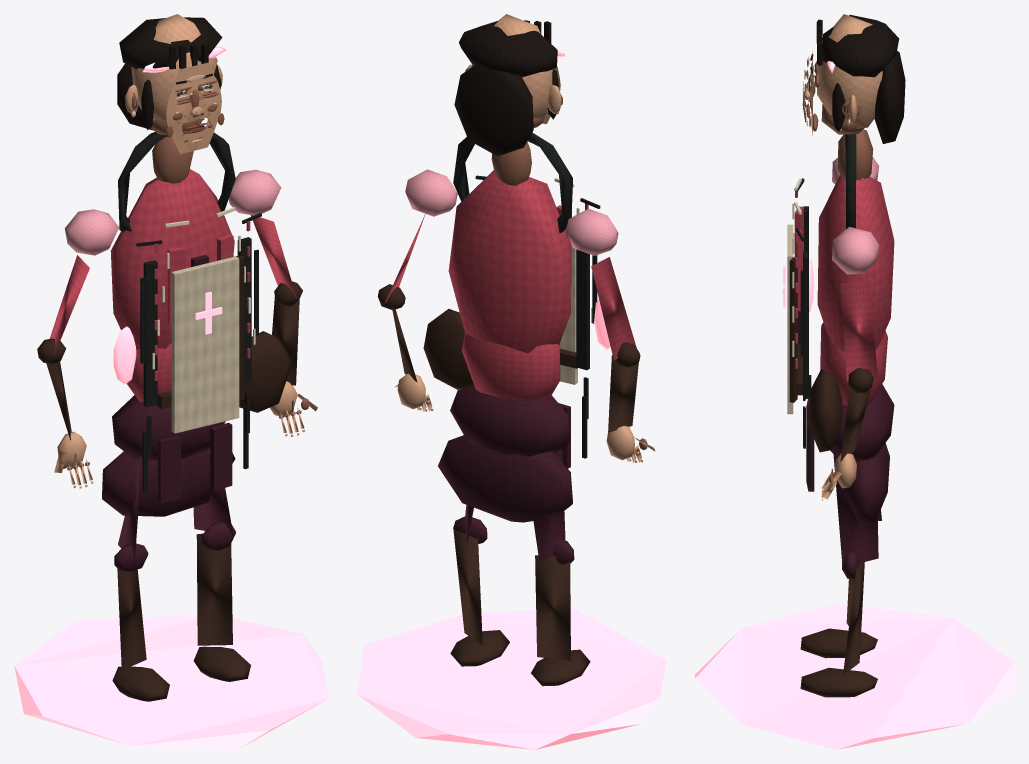
Rendered from crimson-mender-lod1.glb.
The picture shows the model from 3 angles, left to right: view 1: azimuth 30°, elevation 25°; view 2: azimuth 150°, elevation 25°; view 3: azimuth 270°, elevation 25°; orthographic projection.
Parts seen in each view (by area): view 1: crimson-mender_table_scale_base_lod1, crimson-mender_doctor_coat_panel_lod1, crimson-mender_ribcage_lod1, crimson-mender_coat_tail_lod1, crimson-mender_right_shin_lod1, crimson-mender_pelvis_lod1, crimson-mender_head_lod1, crimson-mender_face_sculpt_surface_lod1, crimson-mender_medic_satchel_lod1, crimson-mender_hair_cap_lod1, crimson-mender_left_shin_lod1, crimson-mender_raised_collar_lod1 (+24 smaller); view 2: crimson-mender_table_scale_base_lod1, crimson-mender_ribcage_lod1, crimson-mender_coat_tail_lod1, crimson-mender_pelvis_lod1, crimson-mender_back_hair_mass_lod1, crimson-mender_abdomen_lod1, crimson-mender_hair_cap_lod1, crimson-mender_left_shin_lod1, crimson-mender_medic_satchel_lod1, crimson-mender_right_shin_lod1, crimson-mender_left_upper_arm_lod1, crimson-mender_raised_collar_lod1 (+14 smaller); view 3: crimson-mender_table_scale_base_lod1, crimson-mender_ribcage_lod1, crimson-mender_hair_cap_lod1, crimson-mender_head_lod1, crimson-mender_right_upper_arm_lod1, crimson-mender_coat_tail_lod1, crimson-mender_pelvis_lod1, crimson-mender_medic_satchel_lod1, crimson-mender_back_hair_mass_lod1, crimson-mender_right_thigh_lod1, crimson-mender_abdomen_lod1, crimson-mender_right_boot_lod1 (+10 smaller).
Boxes of the visible parts, left/top/right/bottom form: crimson-mender_table_scale_base_lod1: left=14, top=615, right=328, bottom=749; crimson-mender_doctor_coat_panel_lod1: left=171, top=256, right=239, bottom=433; crimson-mender_ribcage_lod1: left=110, top=169, right=234, bottom=349; crimson-mender_coat_tail_lod1: left=102, top=449, right=235, bottom=516; crimson-mender_right_shin_lod1: left=196, top=533, right=232, bottom=645; crimson-mender_pelvis_lod1: left=112, top=395, right=225, bottom=460; crimson-mender_head_lod1: left=131, top=14, right=217, bottom=120; crimson-mender_face_sculpt_surface_lod1: left=166, top=62, right=221, bottom=153; crimson-mender_medic_satchel_lod1: left=239, top=331, right=290, bottom=412; crimson-mender_hair_cap_lod1: left=119, top=17, right=222, bottom=68; crimson-mender_left_shin_lod1: left=117, top=568, right=146, bottom=670; crimson-mender_raised_collar_lod1: left=118, top=126, right=235, bottom=232; crimson-mender_table_scale_base_lod1: left=357, top=609, right=666, bottom=749; crimson-mender_ribcage_lod1: left=448, top=170, right=570, bottom=353; crimson-mender_coat_tail_lod1: left=438, top=435, right=572, bottom=522; crimson-mender_pelvis_lod1: left=450, top=384, right=569, bottom=456; crimson-mender_back_hair_mass_lod1: left=454, top=64, right=533, bottom=156; crimson-mender_abdomen_lod1: left=462, top=333, right=560, bottom=401; crimson-mender_hair_cap_lod1: left=459, top=21, right=557, bottom=77; crimson-mender_left_shin_lod1: left=535, top=555, right=570, bottom=660; crimson-mender_medic_satchel_lod1: left=423, top=309, right=473, bottom=389; crimson-mender_right_shin_lod1: left=453, top=529, right=482, bottom=645; crimson-mender_left_upper_arm_lod1: left=591, top=257, right=636, bottom=359; crimson-mender_raised_collar_lod1: left=453, top=132, right=572, bottom=232; crimson-mender_table_scale_base_lod1: left=695, top=603, right=1014, bottom=749; crimson-mender_ribcage_lod1: left=817, top=175, right=894, bottom=351; crimson-mender_hair_cap_lod1: left=822, top=14, right=899, bottom=77; crimson-mender_head_lod1: left=817, top=14, right=882, bottom=131; crimson-mender_right_upper_arm_lod1: left=840, top=280, right=877, bottom=381; crimson-mender_coat_tail_lod1: left=844, top=443, right=889, bottom=524; crimson-mender_pelvis_lod1: left=830, top=384, right=894, bottom=460; crimson-mender_medic_satchel_lod1: left=809, top=369, right=842, bottom=452; crimson-mender_back_hair_mass_lod1: left=874, top=51, right=905, bottom=143; crimson-mender_right_thigh_lod1: left=833, top=454, right=878, bottom=567; crimson-mender_abdomen_lod1: left=820, top=322, right=887, bottom=405; crimson-mender_right_boot_lod1: left=800, top=667, right=877, bottom=697.
Size of the model in its own units: 0.8602 by 1.97 by 0.8602.
18 materials, 16 textured.
